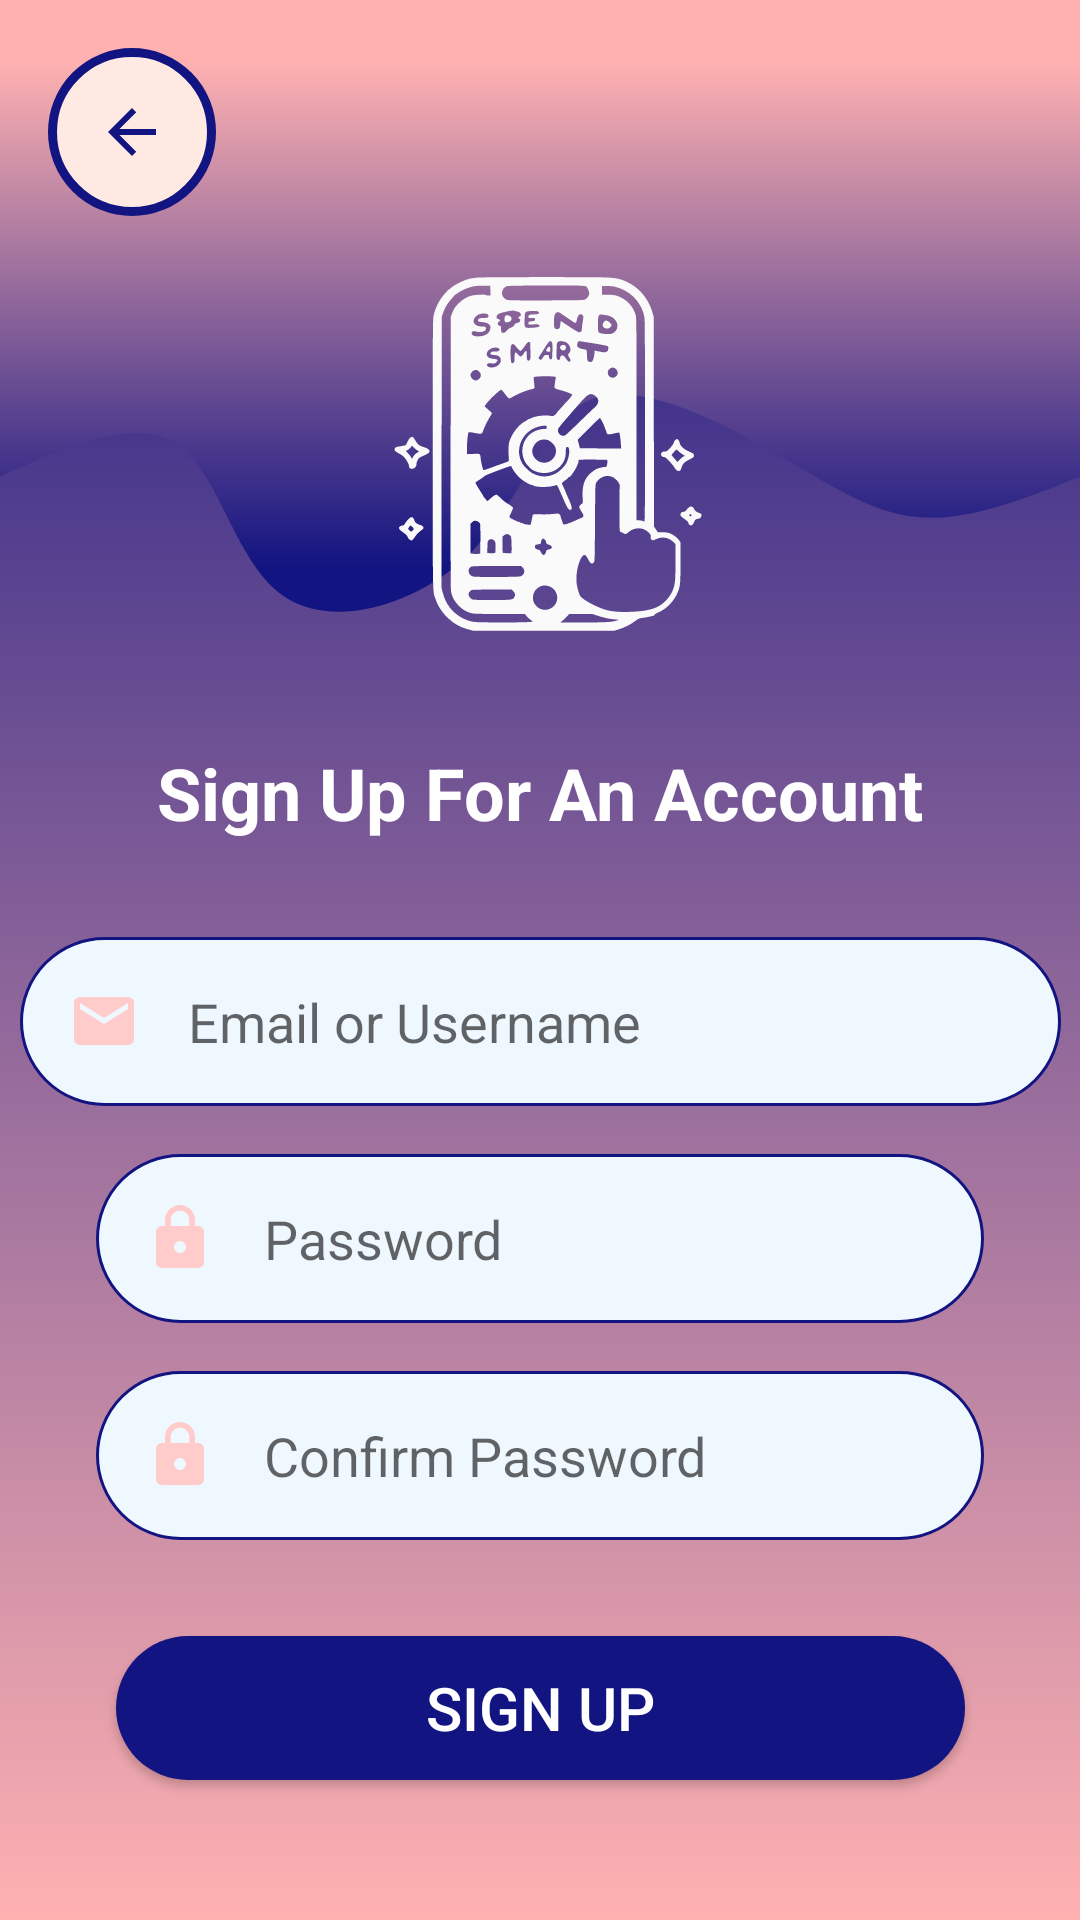

Where to tap for icons on this 1080px x 1920px app screen, as (x=x, y=y):
Back Button: (x=132, y=132)
